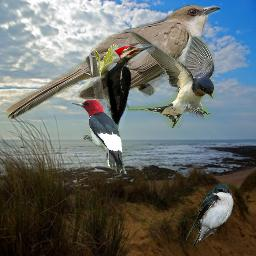Cuckoo: (3, 3, 220, 119)
Swallow: (121, 29, 215, 128), (186, 182, 235, 247)
Woodpecker: (101, 44, 155, 129), (71, 99, 128, 174)
